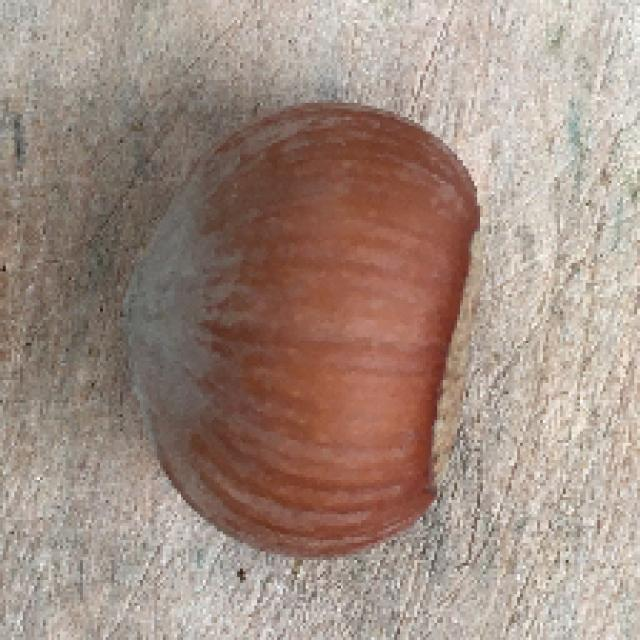qualityHazelnut: (108, 97, 507, 556)
